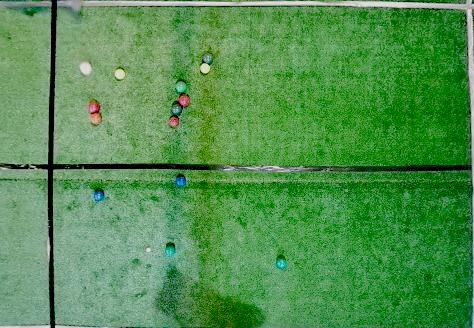blue: (94, 189, 104, 201), (176, 176, 186, 187)
green: (175, 80, 187, 93), (276, 256, 287, 269), (165, 244, 176, 255), (171, 103, 182, 114), (202, 53, 213, 64)
red: (79, 62, 93, 76), (88, 101, 100, 114), (90, 113, 102, 125), (178, 94, 190, 106), (169, 116, 179, 127)
vline: (1, 0, 58, 327), (463, 0, 473, 328)
white: (146, 247, 151, 253)
yellow: (200, 63, 210, 74), (115, 69, 125, 80)
